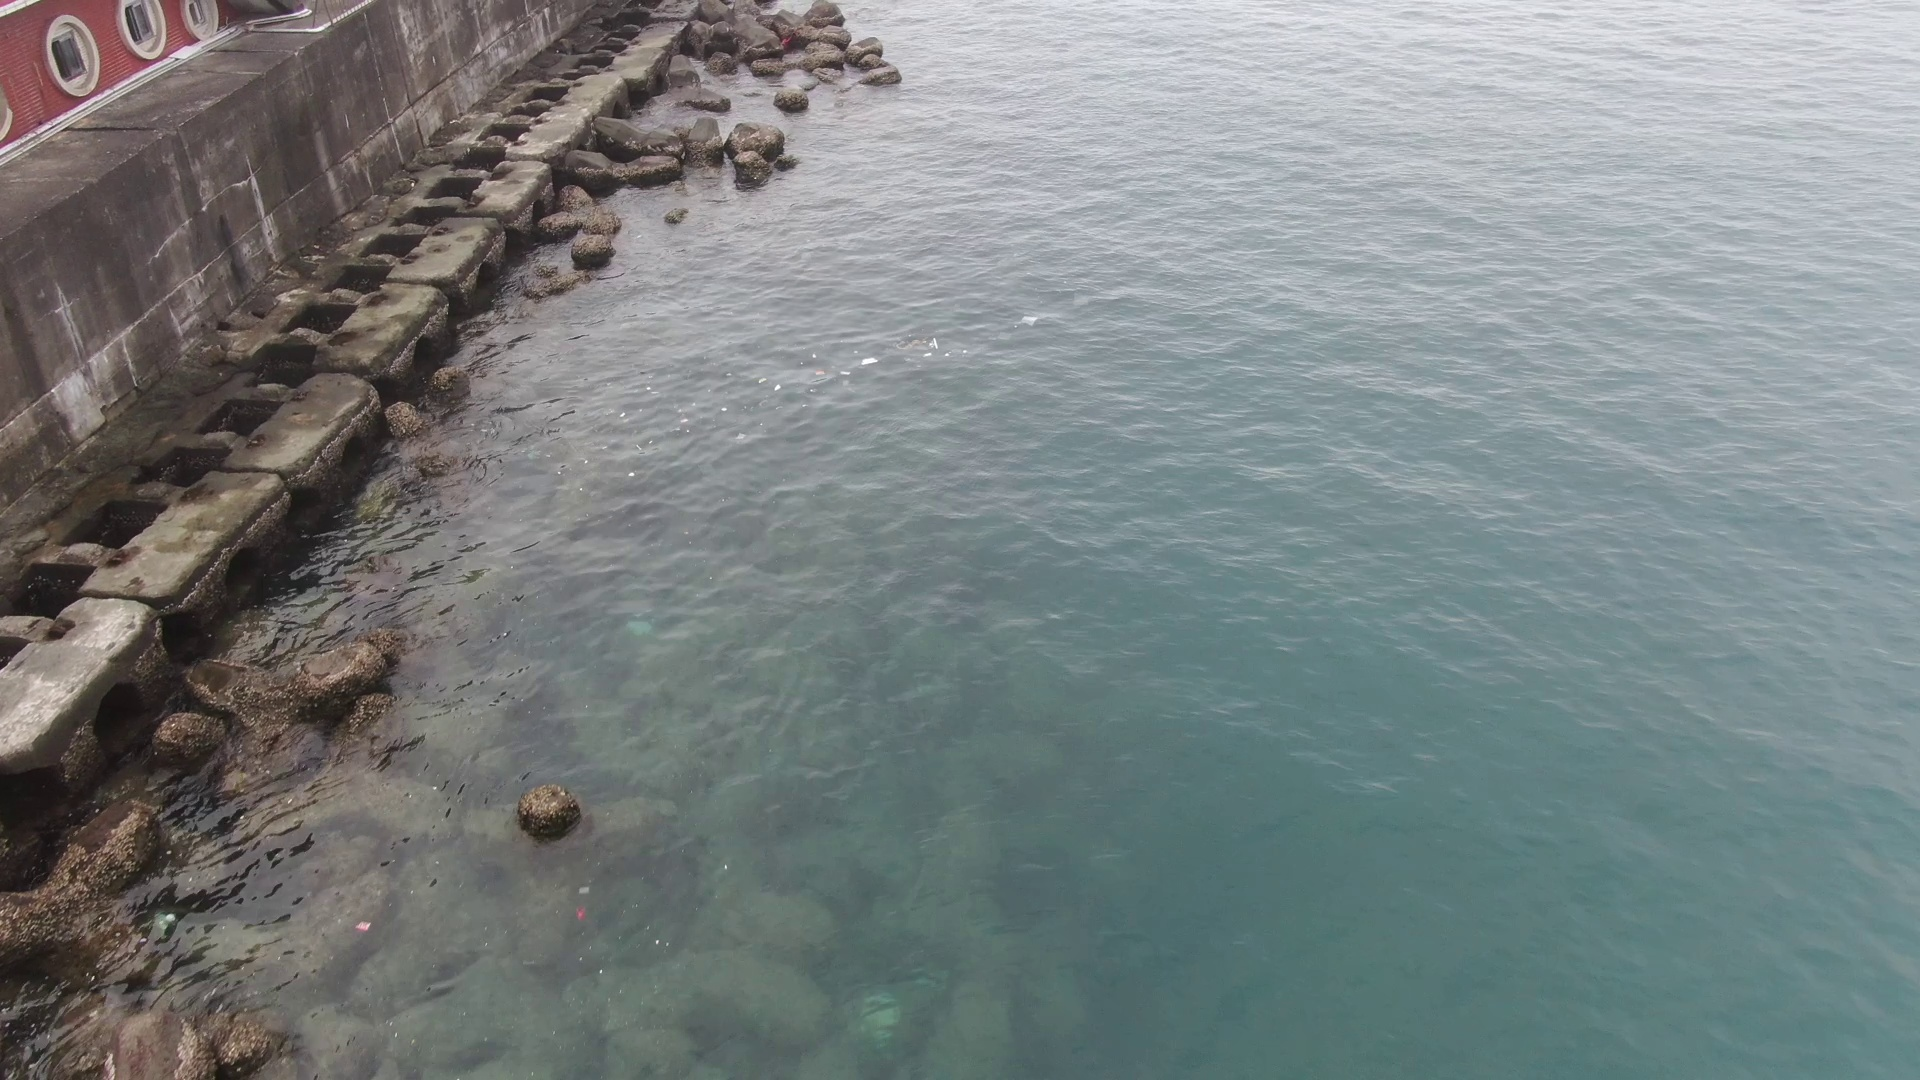garbage: (848, 327, 957, 375), (1014, 302, 1043, 335), (566, 901, 600, 919), (353, 916, 378, 935)
